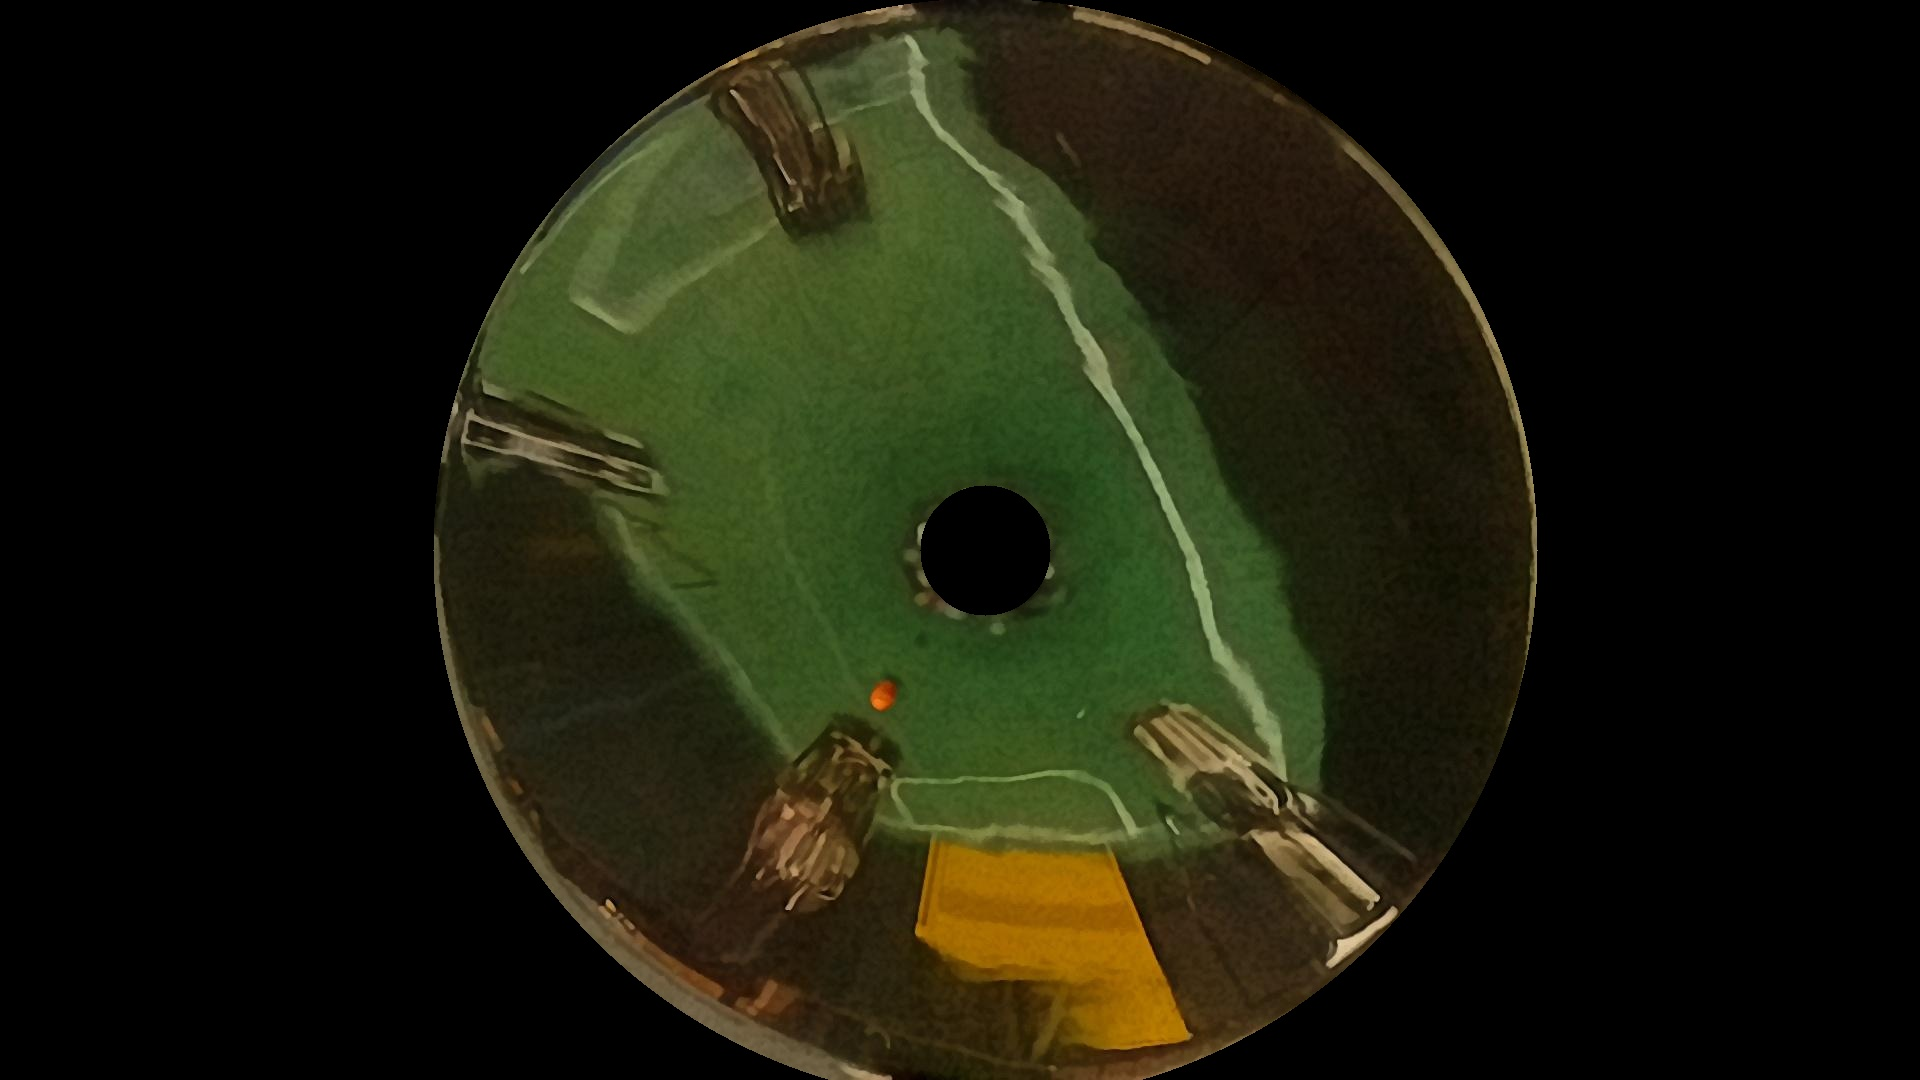ball: (861, 676, 905, 713)
robots: (1149, 704, 1428, 940), (698, 717, 909, 998), (422, 386, 680, 508), (724, 46, 876, 232)
yellow-goal: (909, 823, 1192, 1080)
